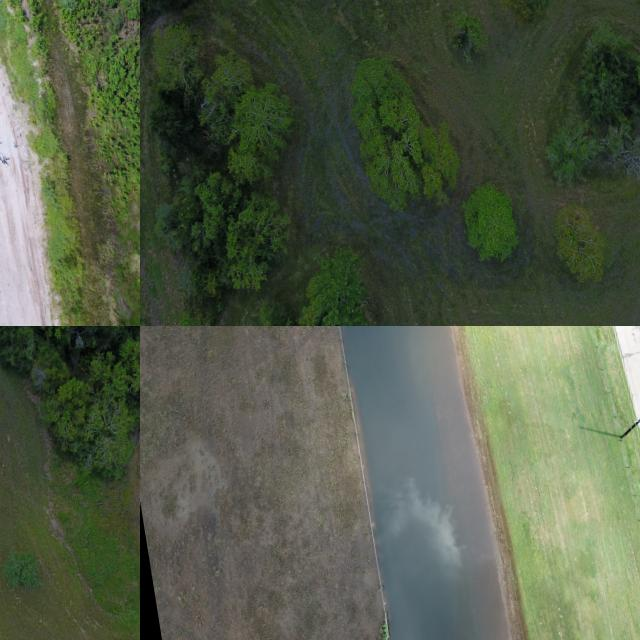fire: (340, 326, 511, 640)
